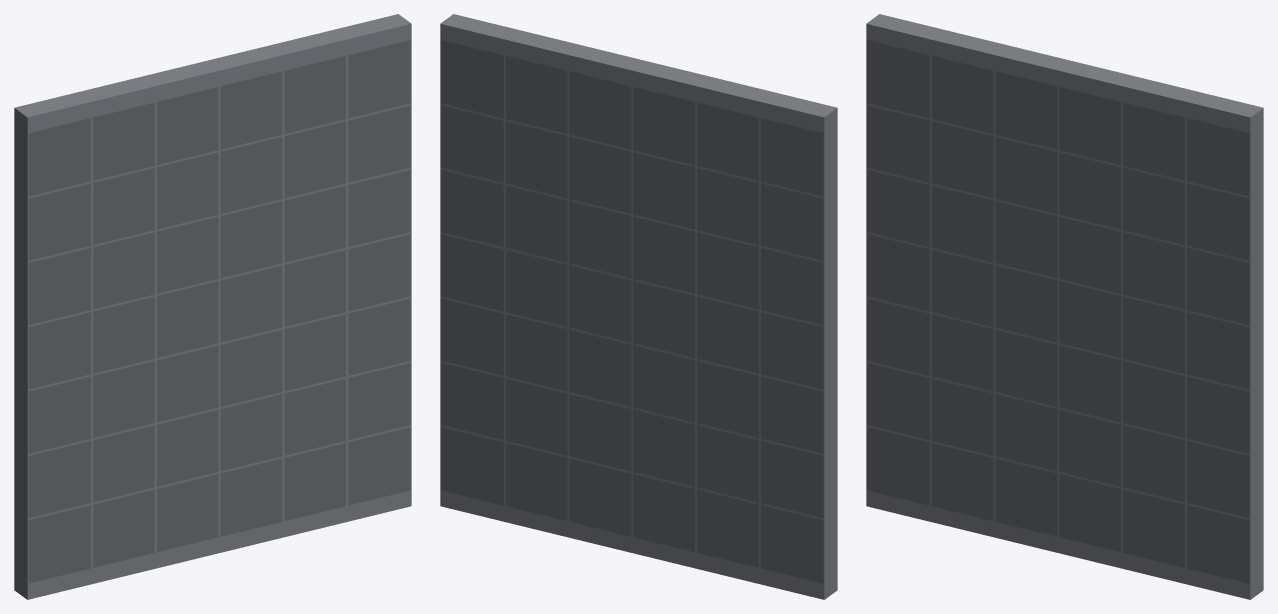
Rendered from Wall2_C7_16.fbx.
The picture shows the model from 3 angles, left to right: view 1: azimuth 30°, elevation 25°; view 2: azimuth 150°, elevation 25°; view 3: azimuth 330°, elevation 25°; orthographic projection.
Parts seen in each view (by area): view 1: Wall2_C7_16; view 2: Wall2_C7_16; view 3: Wall2_C7_16.
Part boxes in pixels (x1,y1,x2,y2): Wall2_C7_16: (14, 14, 411, 599); Wall2_C7_16: (440, 14, 837, 599); Wall2_C7_16: (866, 14, 1263, 599).
Bounding box in the file's own units: 250 × 300 × 15.
